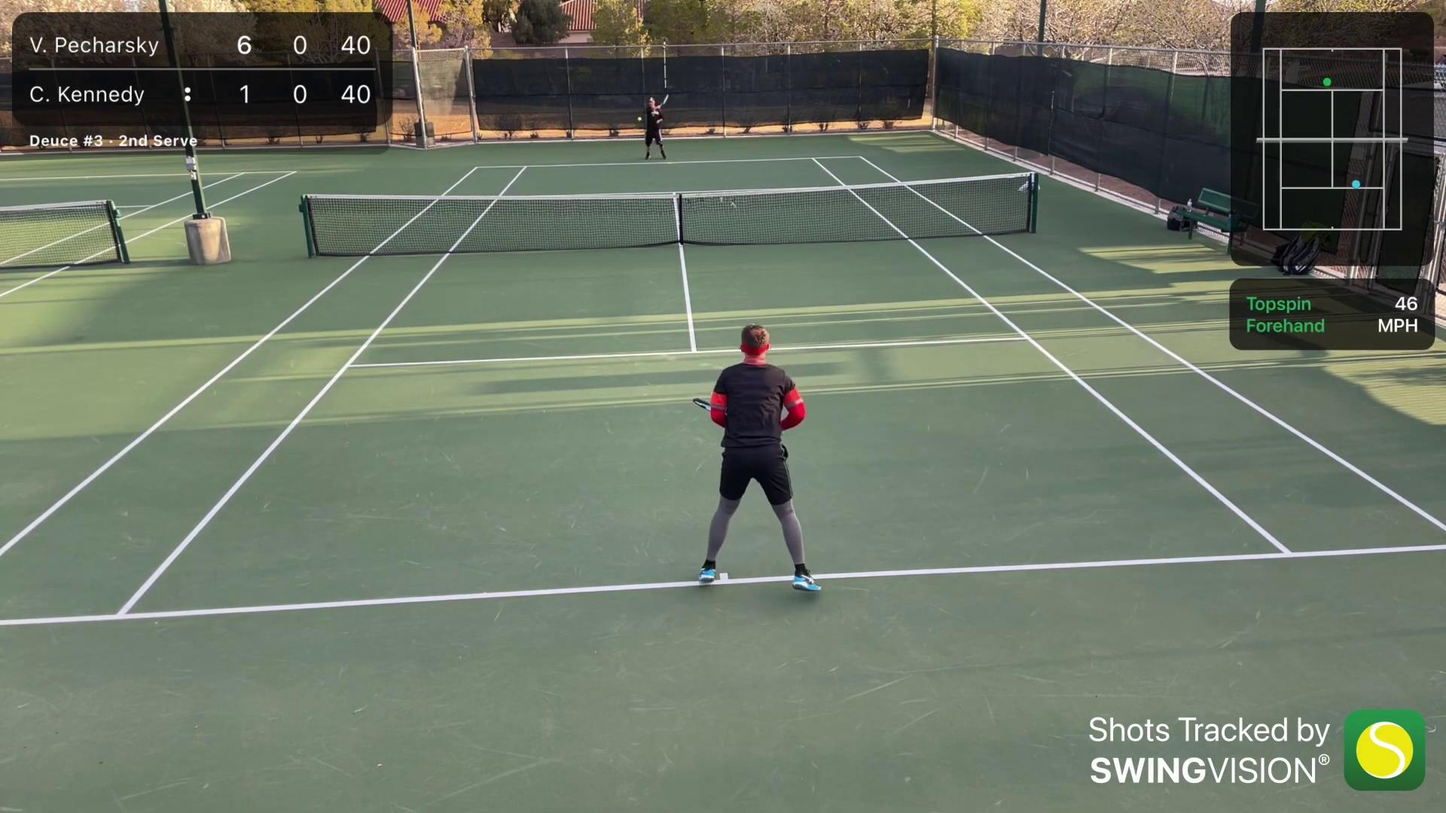ball: (636, 117, 644, 122)
